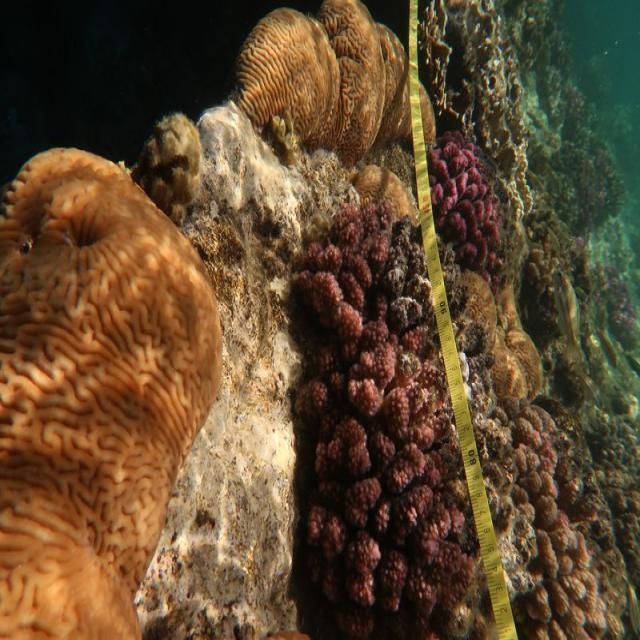Healthy Coral: (1, 143, 234, 640), (277, 356, 477, 639), (236, 1, 436, 149), (290, 182, 395, 352), (458, 267, 551, 410), (427, 131, 509, 285)
